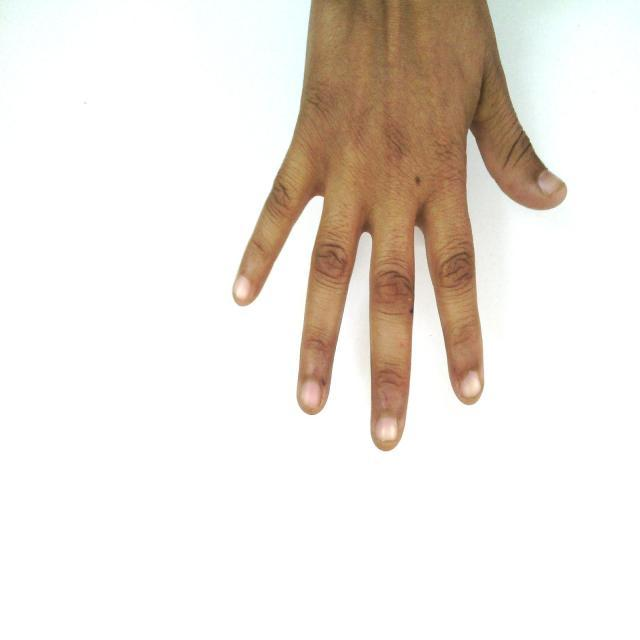Fingernail: (538, 172, 563, 195), (301, 380, 321, 408), (377, 416, 398, 442), (461, 372, 481, 398), (235, 277, 252, 302)
